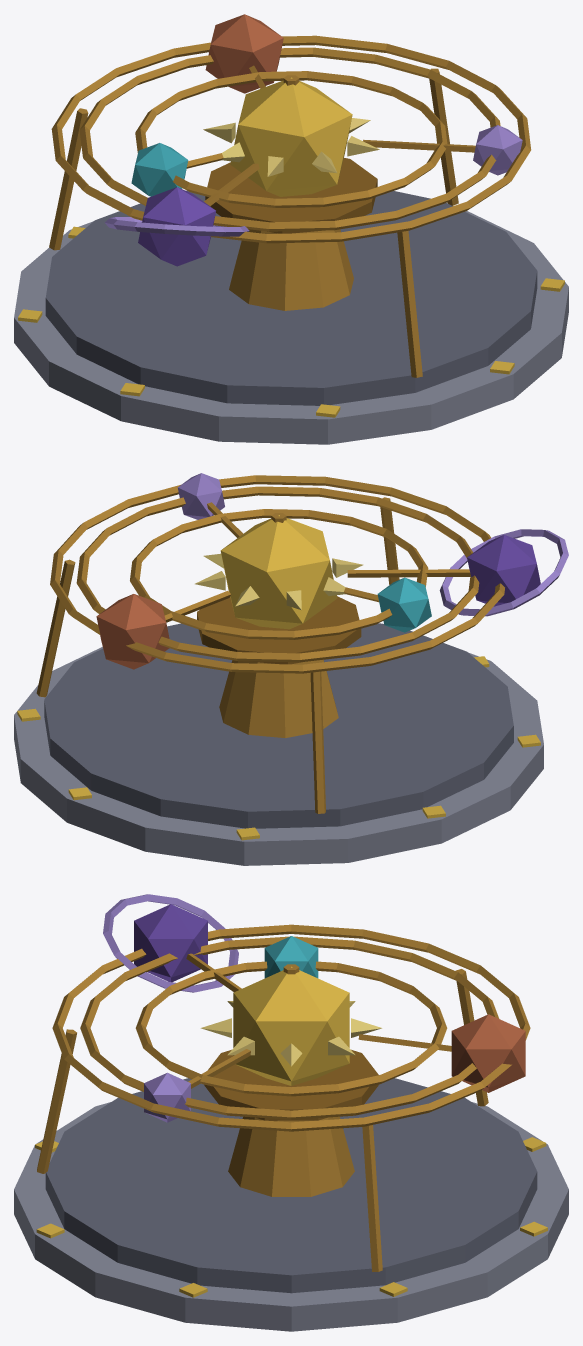
The model's file is Decor_Observatory_Orrery.fbx.
3 views of the same model, one above another, from view 1: azimuth 30°, elevation 25°; view 2: azimuth 150°, elevation 25°; view 3: azimuth 270°, elevation 25° (orthographic). The views are drawn at different scales.
Visible parts, largest first — view 1: Orrery_Body; view 2: Orrery_Body; view 3: Orrery_Body.
Part boxes in pixels (x1,y1,x2,y2): Orrery_Body: (14, 14, 568, 444); Orrery_Body: (14, 473, 568, 865); Orrery_Body: (14, 894, 568, 1331).
Size of the model in its own units: 14 by 6.9 by 14.
